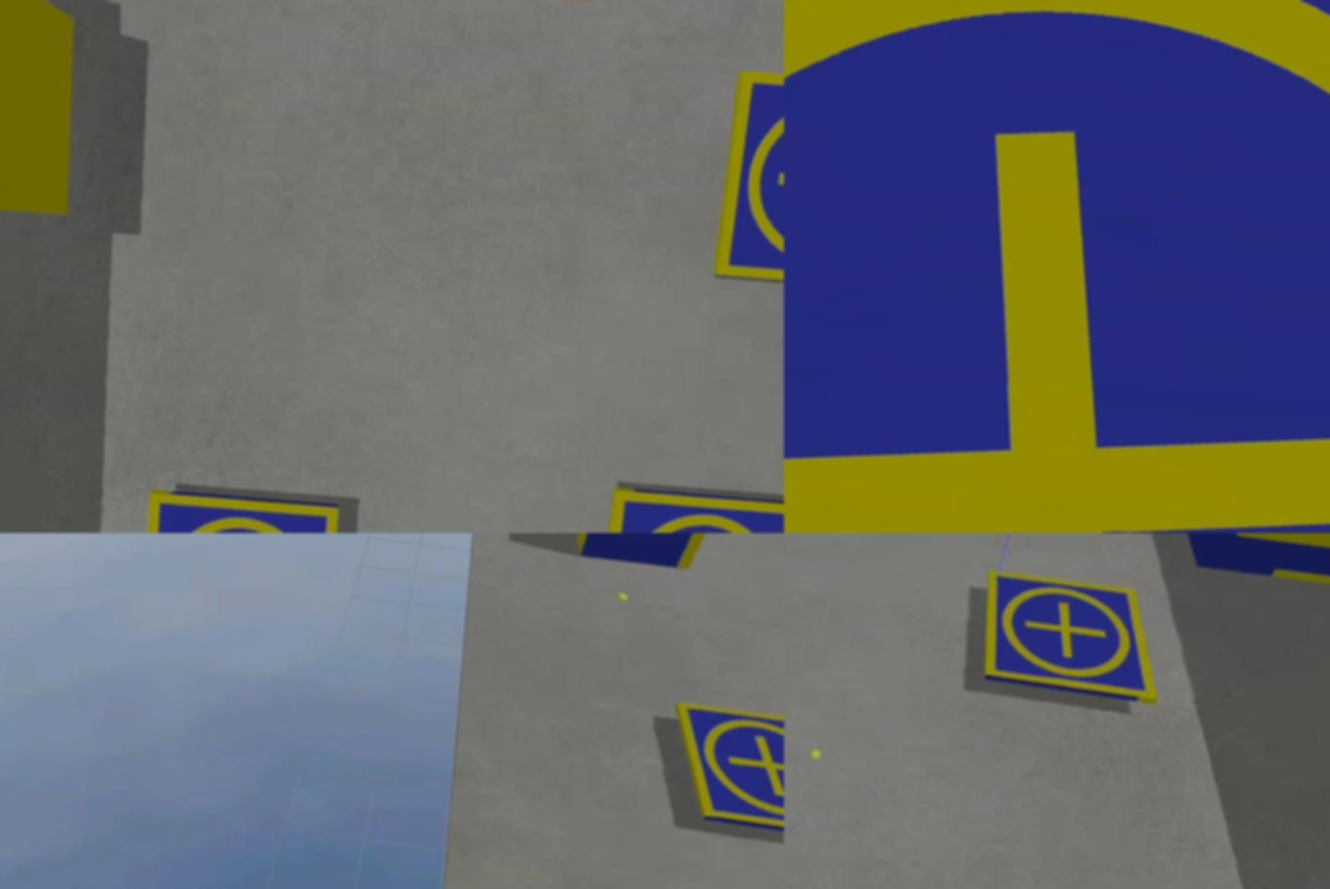small_base: (784, 1, 1330, 534), (974, 569, 1167, 709), (669, 701, 784, 845), (716, 65, 784, 295), (136, 492, 341, 534)
